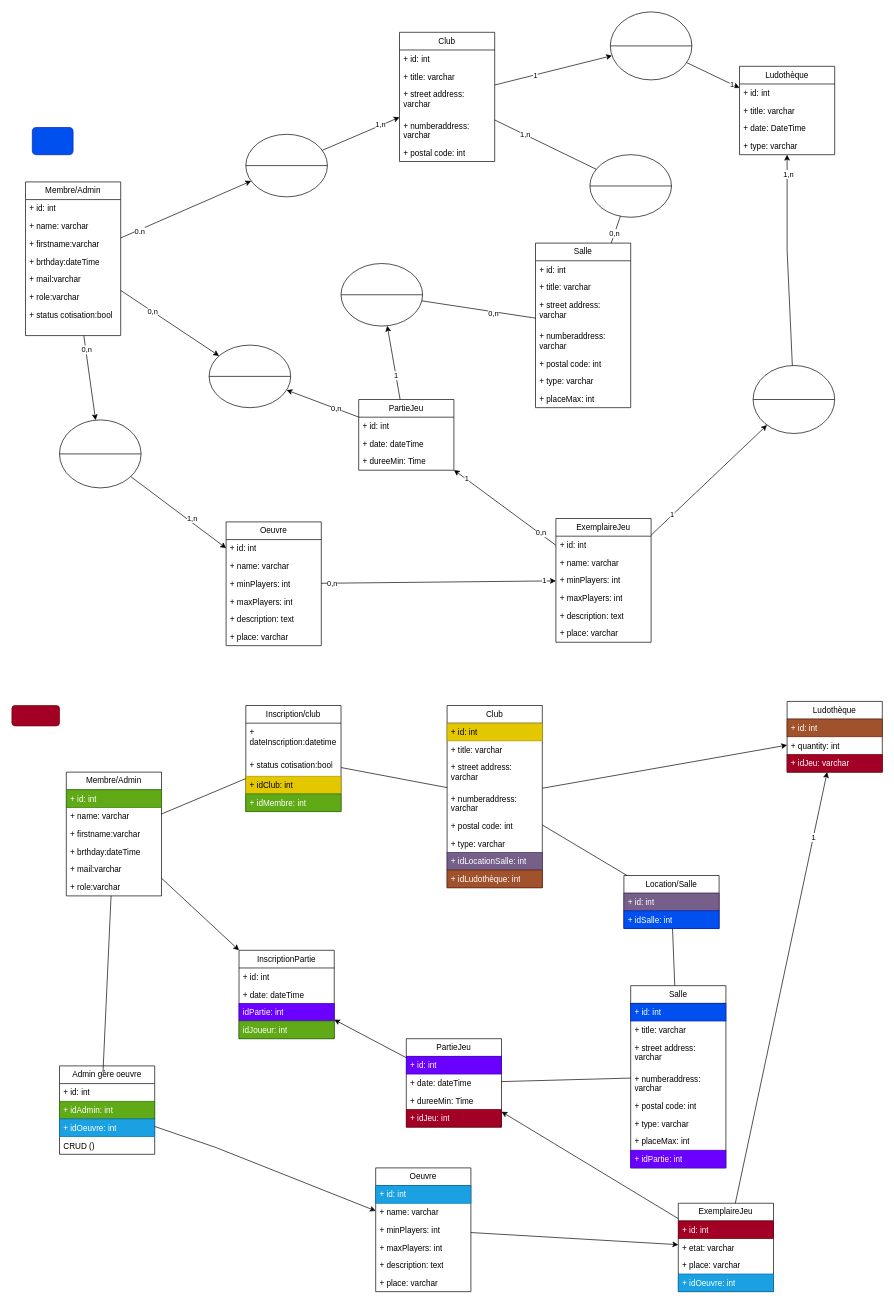
This 894x1306 diagram has some shape labels left out. The shapes that lost their labels are listed below. From the top down, each one's centre as x and y in pixels, then its label:
At pixel 651 45: "possède".
At pixel 52 141: "MCD".
At pixel 286 165: "adhère".
At pixel 630 185: "loue".
At pixel 381 294: "a Lieu".
At pixel 249 376: "S'inscrit dateIncription, nbr participants".
At pixel 793 399: "consitue quantity, place,".
At pixel 100 453: "gère (CRUD), dateModification".
At pixel 35 715: "MLD".
